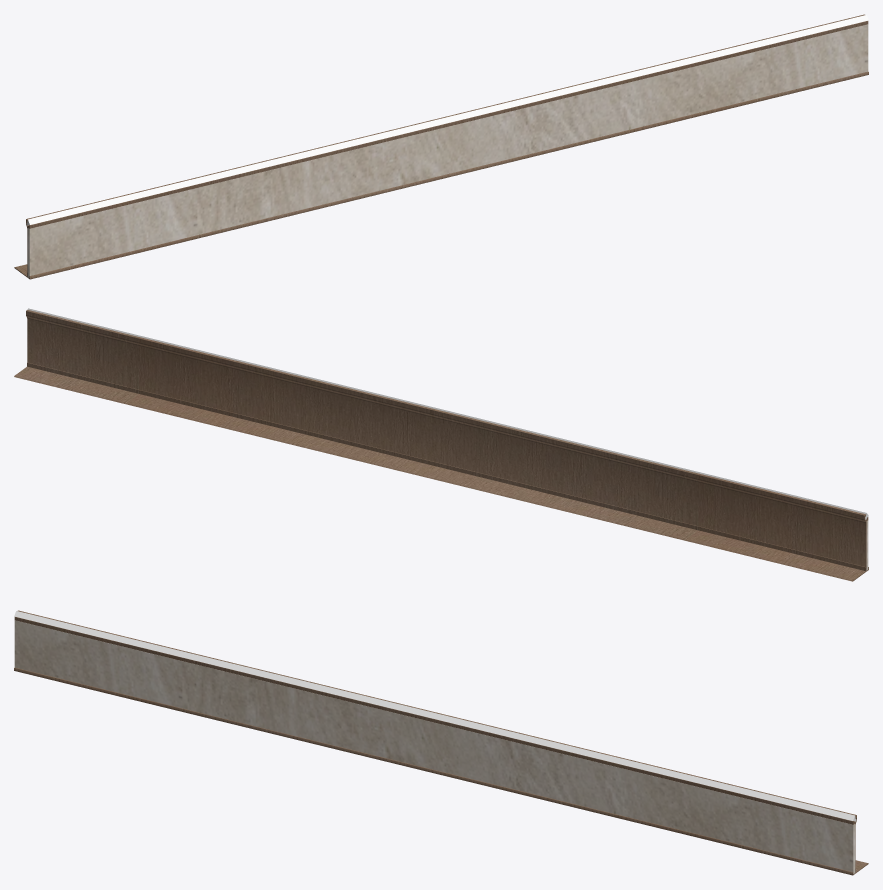
Rendered from MDC-100-55.glb.
The picture shows the model from 3 angles, top to bottom: view 1: azimuth 30°, elevation 25°; view 2: azimuth 150°, elevation 25°; view 3: azimuth 330°, elevation 25°; orthographic projection.
Parts seen in each view (by area): view 1: Profile_node_0, Profile, Profile_node; view 2: Profile, Profile_node; view 3: Profile_node_0, Profile, Profile_node.
Part boxes in pixels (left/top/right/bottom): Profile_node_0: left=27, top=24, right=868, bottom=277; Profile: left=14, top=14, right=868, bottom=279; Profile_node: left=26, top=15, right=868, bottom=225; Profile: left=14, top=310, right=868, bottom=581; Profile_node: left=27, top=308, right=868, bottom=519; Profile_node_0: left=14, top=620, right=855, bottom=873; Profile: left=14, top=610, right=868, bottom=875; Profile_node: left=14, top=611, right=856, bottom=821.
Bounding box in the file's own units: 1.5 × 0.1 × 0.05.
3 materials, 2 textured.
